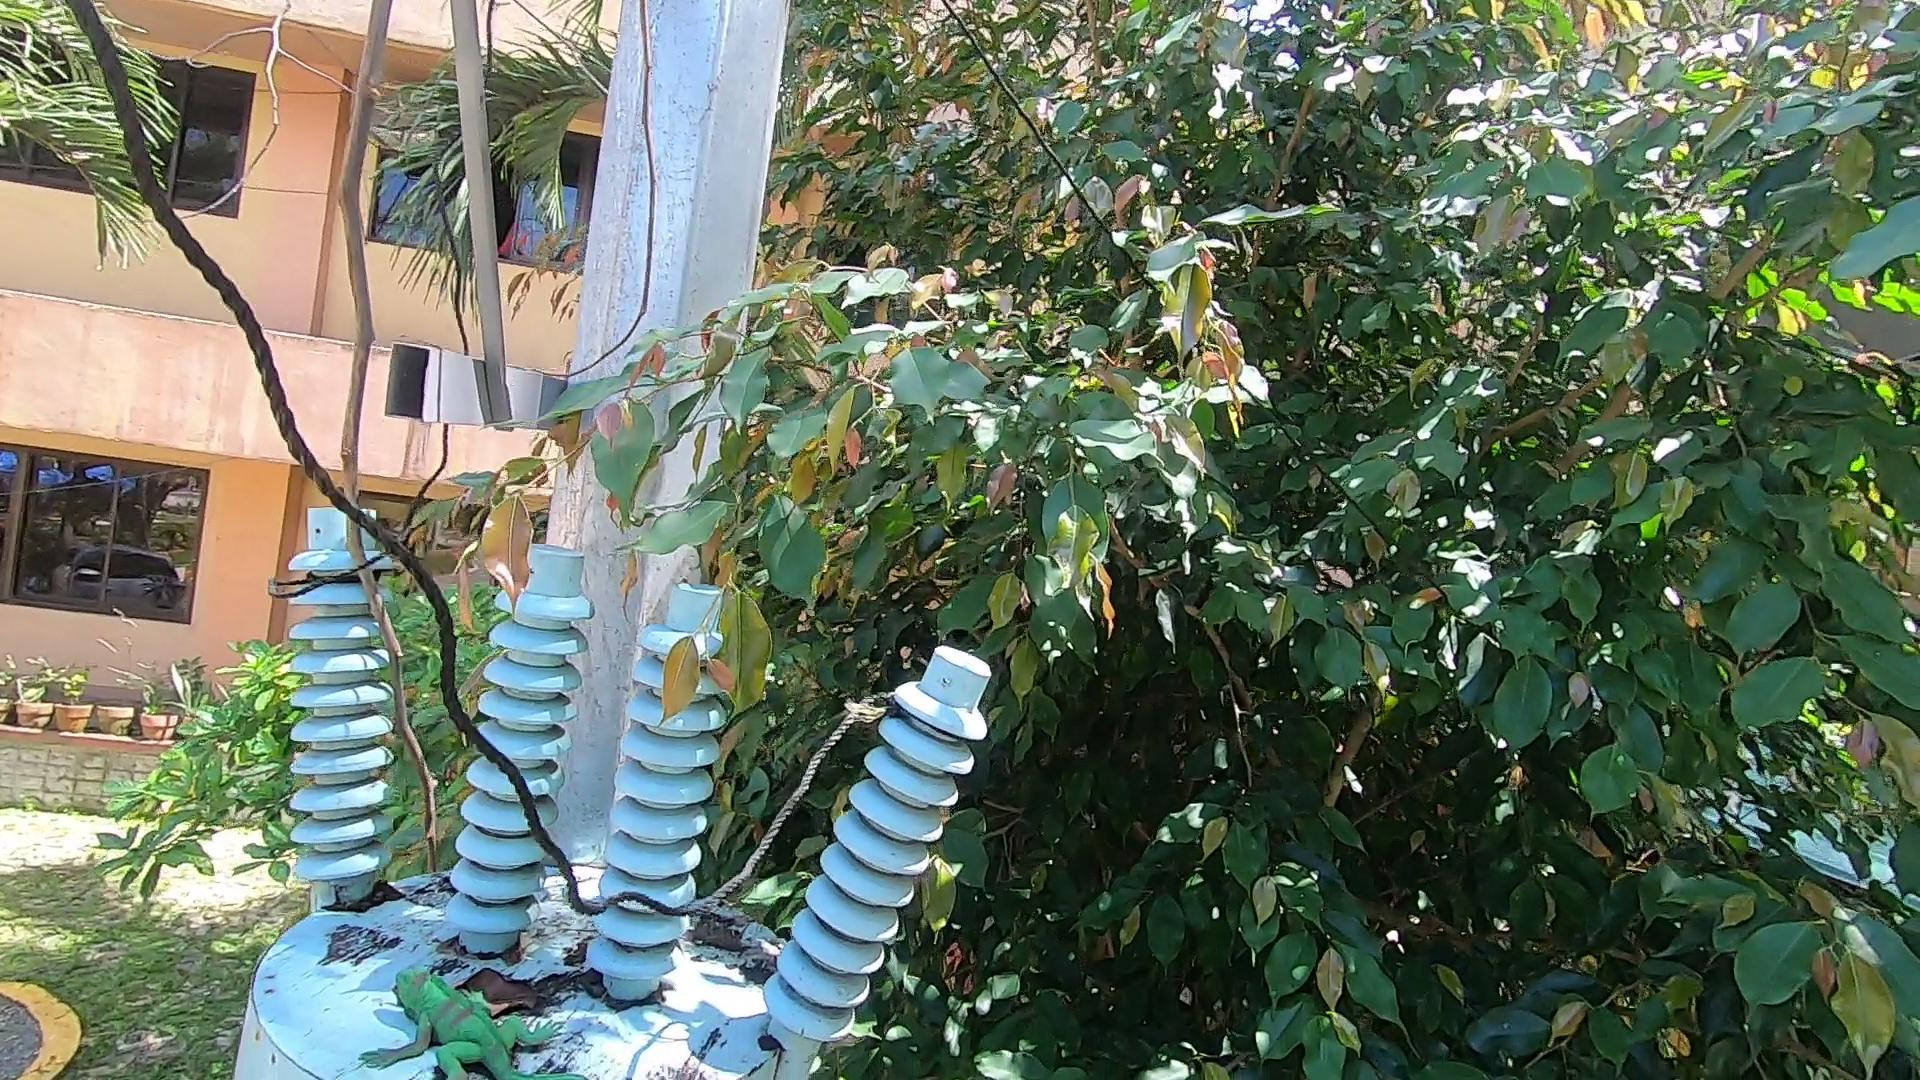branch with leaves: (410, 415, 818, 741)
leaf: (452, 942, 601, 996), (676, 919, 764, 960), (328, 876, 401, 918)
tree branch: (309, 3, 477, 884)
